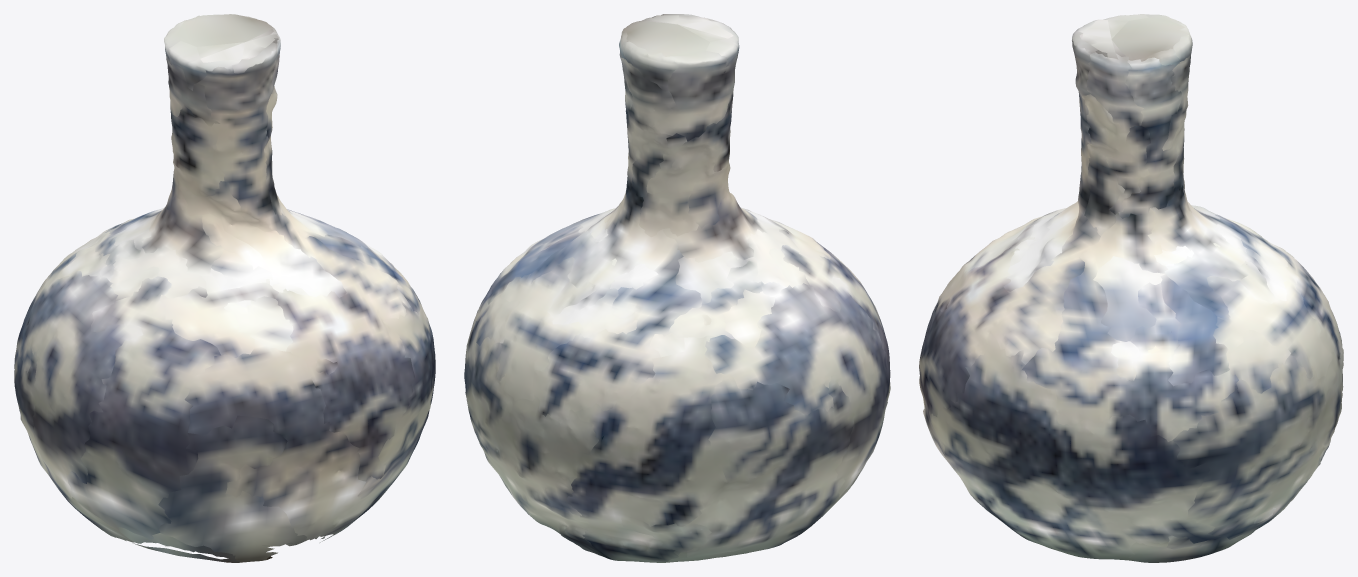
3 views of the same model, side by side, from view 1: azimuth 30°, elevation 25°; view 2: azimuth 150°, elevation 25°; view 3: azimuth 270°, elevation 25° (orthographic).
Parts seen in each view (by area): view 1: Object_2; view 2: Object_2; view 3: Object_2.
Part boxes in pixels (x1,y1,x2,y2): Object_2: (14, 14, 435, 562); Object_2: (464, 14, 890, 562); Object_2: (919, 14, 1343, 562).
Bounding box in the file's own units: 0.3482 × 0.4271 × 0.3472.
1 material, 1 textured.
